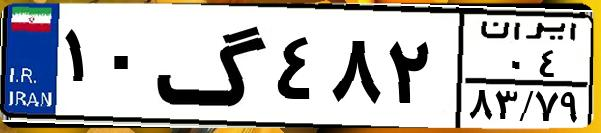0: (110, 28, 156, 98), (508, 27, 537, 80)
1: (57, 26, 110, 100)
2: (385, 28, 445, 110)
3: (495, 70, 520, 125)
4: (270, 28, 330, 110), (537, 27, 568, 80)
7: (535, 70, 560, 125)
8: (330, 28, 385, 110), (470, 70, 495, 125)
9: (560, 70, 590, 125)
گ: (156, 12, 270, 120)
